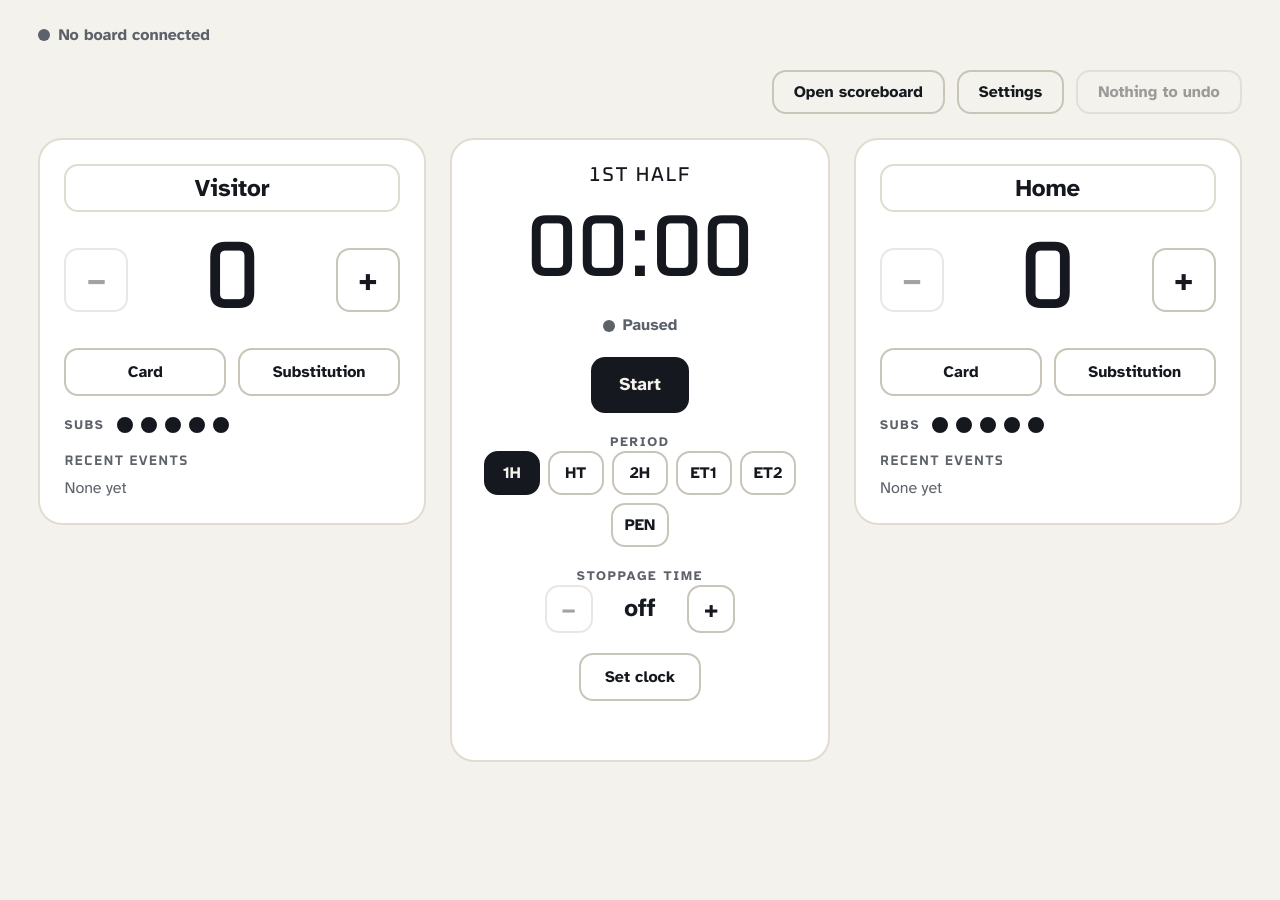
Test: FootballConsole › goal sheet › finishes from the keyboard without reopening
Click the button named "Goal for Home" at (1184, 280), box [1152,248,1216,312]
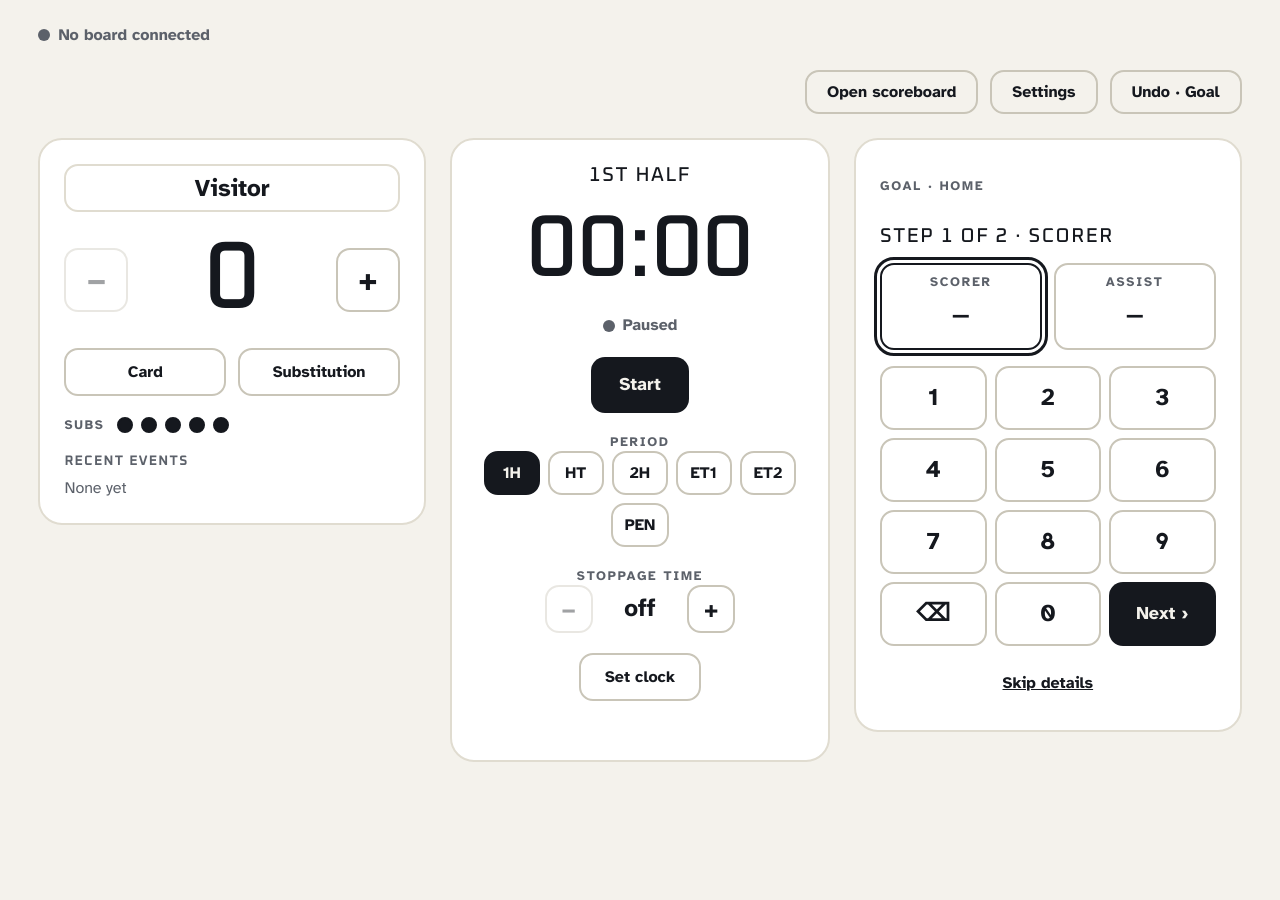
Type keys "9{Enter}10{Enter}"
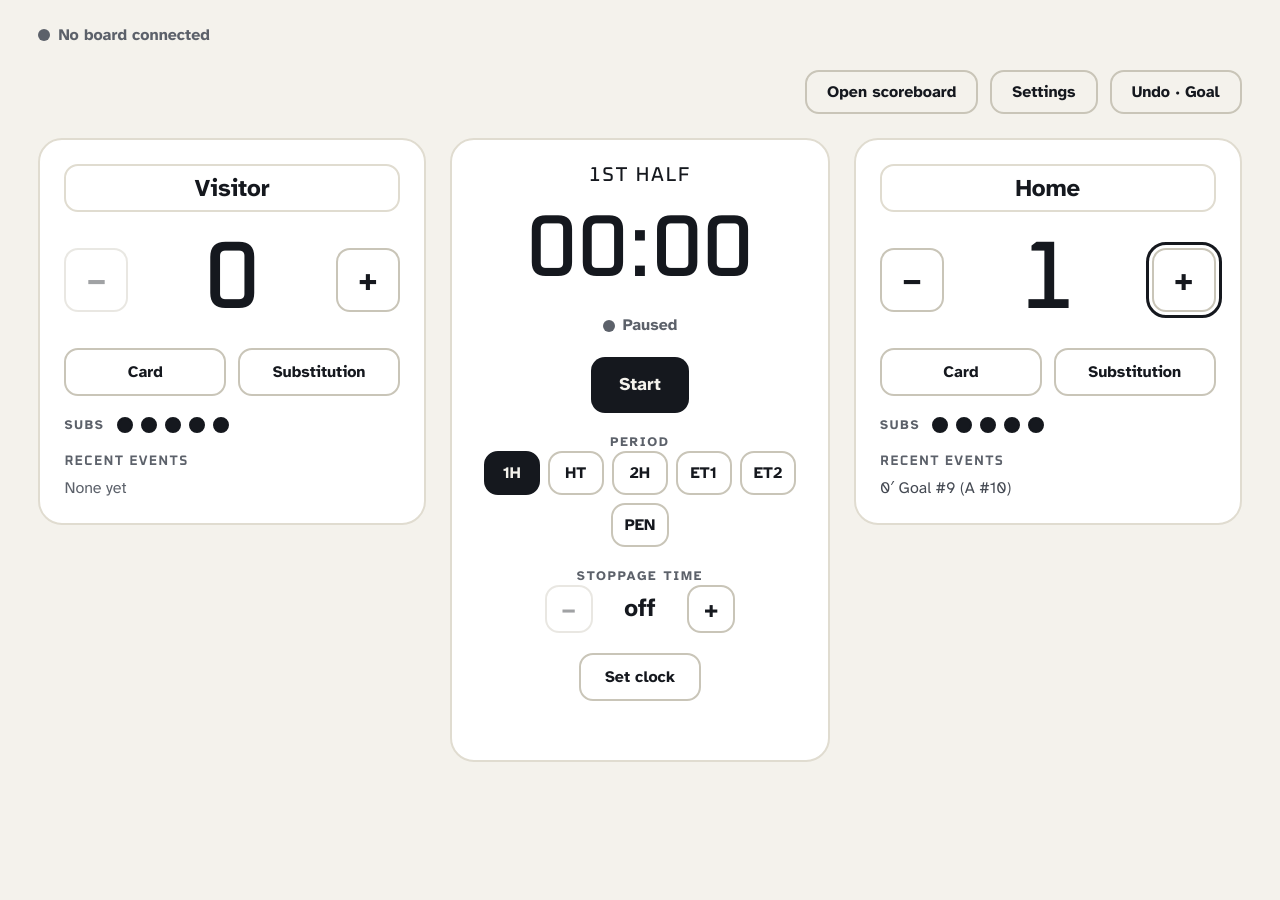
Result: the dialog is gone
